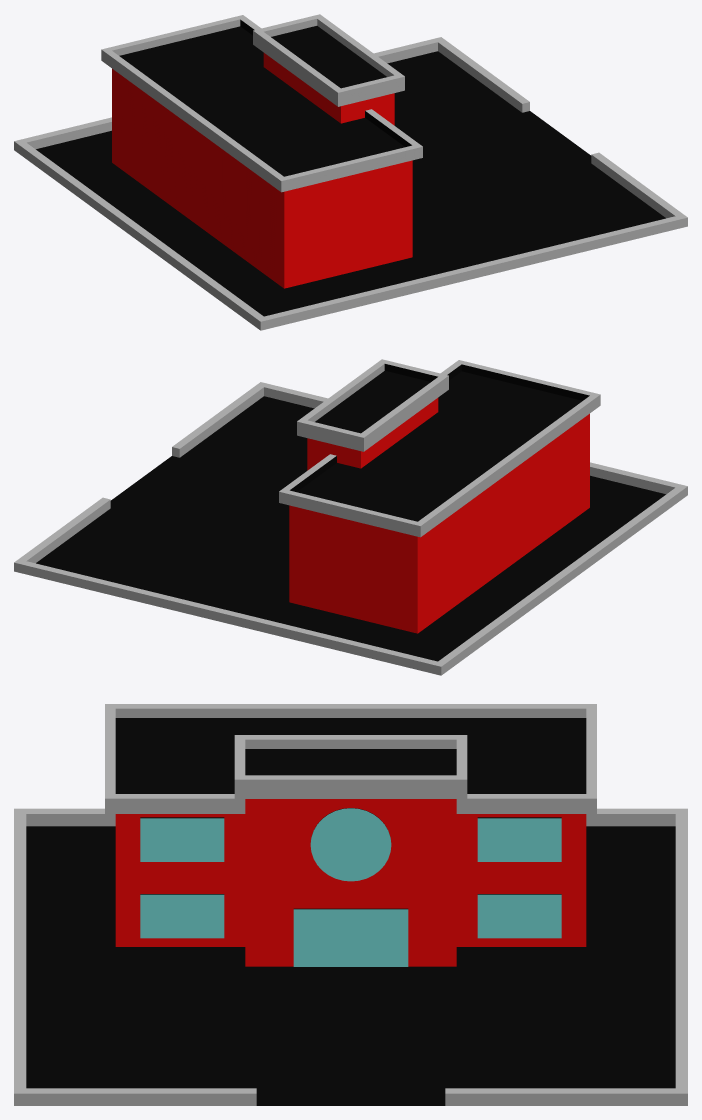
Rendered from Commercial2.fbx.
3 views of the same model, one above another, from view 1: azimuth 30°, elevation 25°; view 2: azimuth 150°, elevation 25°; view 3: azimuth 270°, elevation 25° (orthographic). The views are drawn at different scales.
Visible parts, largest first — view 1: Plane; view 2: Plane; view 3: Plane.
Part boxes in pixels (box(x1,y1,x2,y2)): Plane: box(14, 14, 687, 330); Plane: box(14, 359, 687, 675); Plane: box(14, 704, 687, 1105).
Size of the model in its own units: 5000 by 1569 by 5000.
